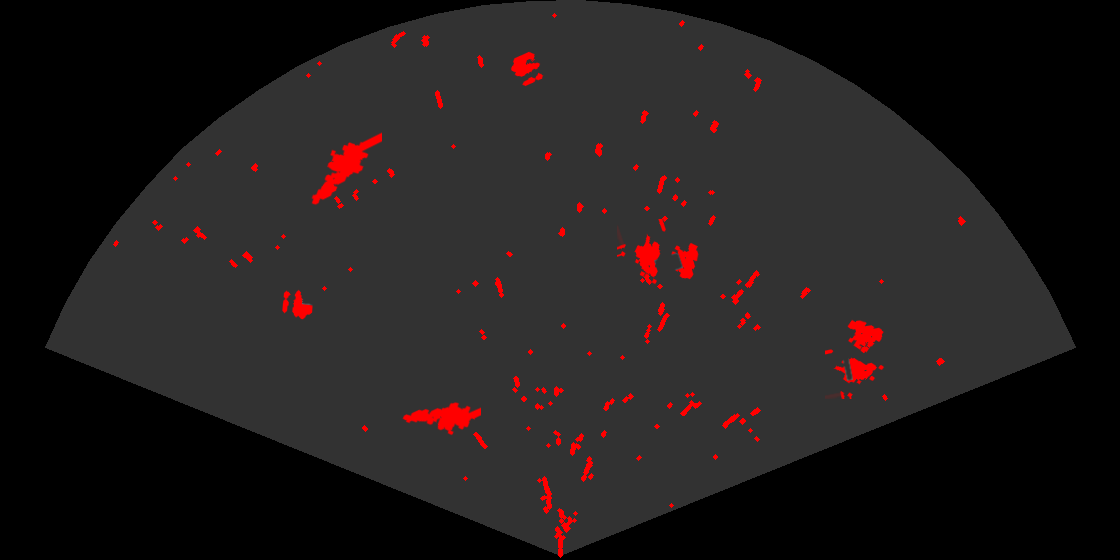ball: (509, 50, 545, 88), (281, 288, 314, 321)
cage: (617, 219, 700, 286), (825, 318, 886, 399)
frogman: (310, 131, 382, 207), (401, 401, 481, 437)
